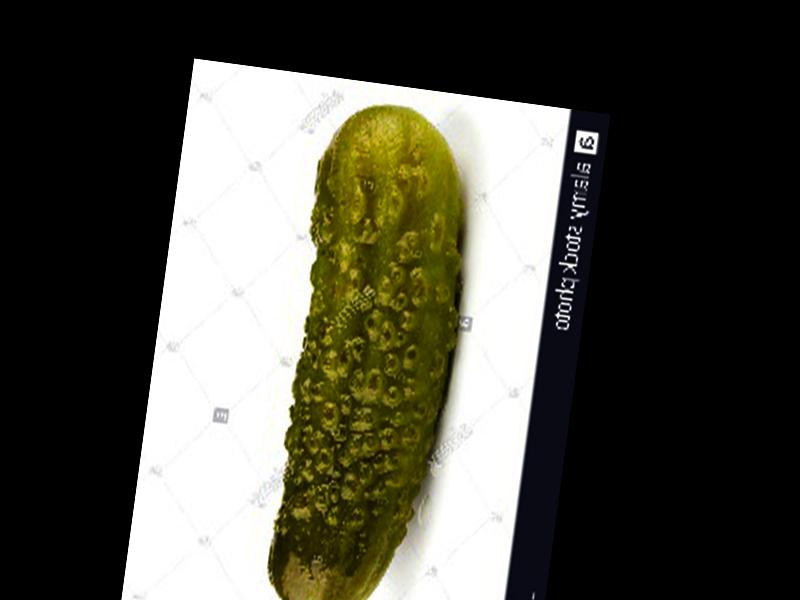Cucumber: (257, 96, 485, 600)
